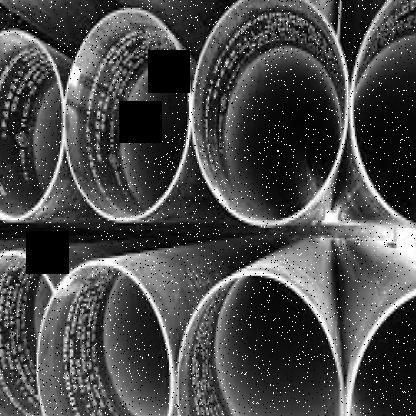pipe: (189, 0, 352, 231), (62, 4, 190, 227), (172, 269, 344, 416), (33, 259, 175, 416), (352, 0, 416, 229), (0, 26, 65, 224), (0, 249, 55, 416), (348, 283, 416, 416)
